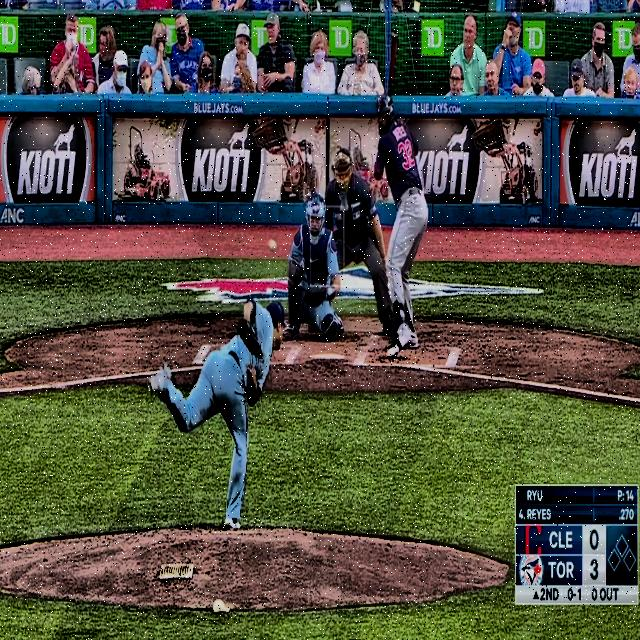baseball: (268, 238, 277, 253)
